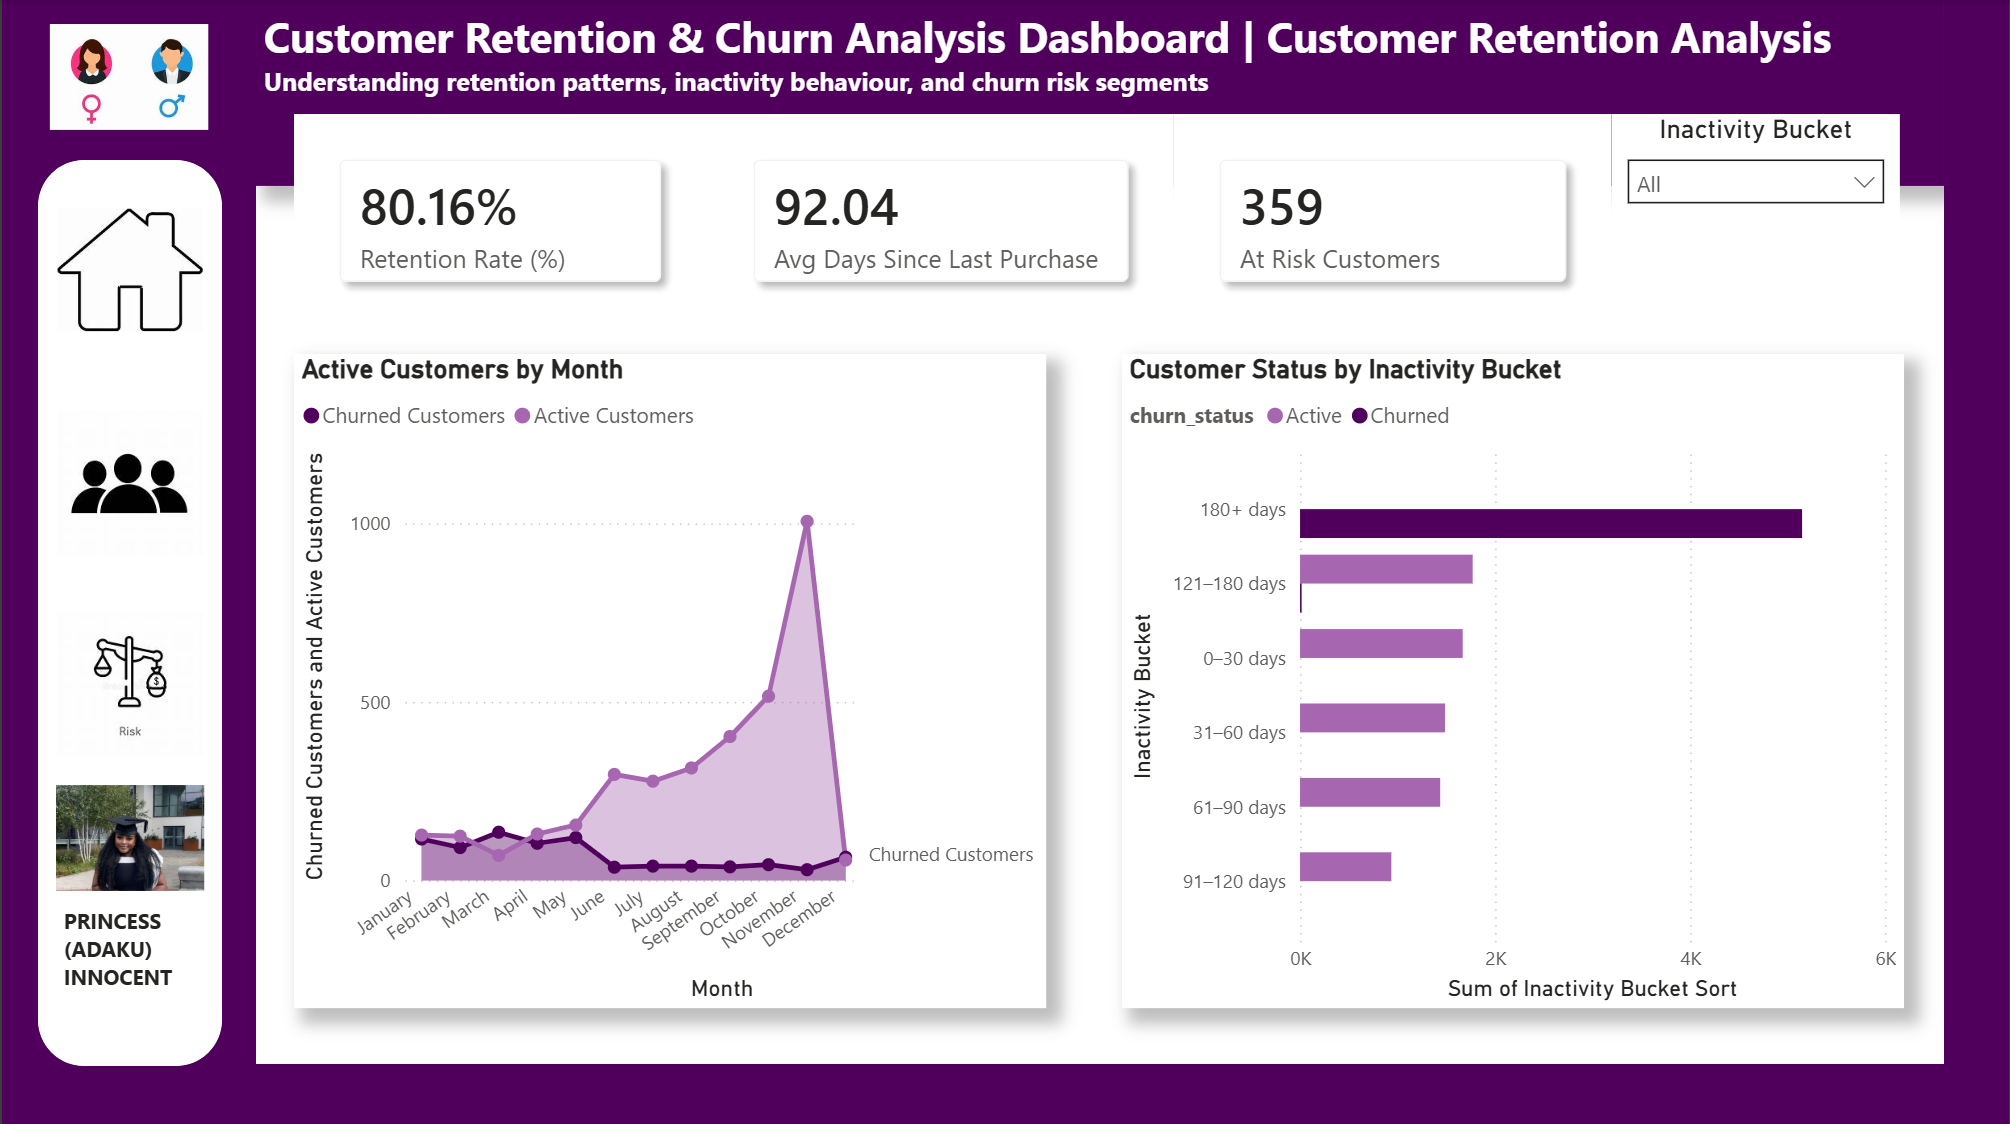

The page's visual inventory and layout, read from the dashboard file:
{"tool":"powerbi","page":{"name":"Customer Retention","canvas":[1280,720],"ordinal":1},"visuals":[{"type":"textbox","box":[161.9,0,1076,118.6],"z":0},{"type":"shape","box":[0,0,161.9,720.3],"z":1000},{"type":"shape","box":[161.9,677.9,1077.3,42.1],"z":2000},{"type":"shape","box":[1237.9,0,42.1,720.3],"z":3000},{"type":"shape","box":[22.9,102,117.3,577.5],"z":4000},{"type":"image","box":[34.4,118.6,94.3,107.1],"z":5000},{"type":"image","box":[34.4,256.3,94.3,103.3],"z":6000},{"type":"image","box":[34.4,376.1,94.3,119.8],"z":7000},{"type":"image","box":[34.4,495.9,94.3,76.5],"z":8000},{"type":"textbox","box":[34.4,572.4,94.3,81.6],"z":9000},{"type":"cardVisual","fields":{"Data":["customer_churn_180days.Retention Rate (%)"]},"box":[186.1,72.7,263.9,136.4],"z":10000},{"type":"cardVisual","fields":{"Data":["customer_churn_180days.Avg Days Since Last Purchase"]},"box":[450,72.7,297.1,136.4],"z":11000},{"type":"cardVisual","fields":{"Data":["customer_churn_180days.At Risk Customers"]},"box":[747.1,72.7,279.2,136.4],"z":12000},{"type":"lineChart","title":"Active Customers by Month","fields":{"Category":["customer_churn_180days.last_purchase_date.Variation.Date Hierarchy.Month"],"Y":["customer_churn_180days.Churned Customers","customer_churn_180days.Active Customers"]},"box":[186.1,225.7,479.4,416.9],"z":13000},{"type":"clusteredBarChart","title":"Customer Status by Inactivity Bucket","fields":{"Series":["customer_churn_180days.churn_status"],"Category":["customer_churn_180days.Inactivity Bucket"],"Y":["Sum(customer_churn_180days.Inactivity Bucket Sort)"]},"box":[713.9,225.7,498.5,416.9],"z":14000},{"type":"slicer","title":"Inactivity Bucket","fields":{"Values":["customer_churn_180days.Inactivity Bucket","customer_churn_180days.Inactivity Bucket Sort"]},"box":[1026.3,72.7,183.6,136.4],"z":15000},{"type":"image","box":[0,15.3,161.9,67.6],"z":15001}]}

Visuals, with their boxes in screenshot pixels (x1, y1, x2, y2), scaled from the page's 1280x720 canvas onto the 2010x1124 screenshot:
textbox: [254, 0, 1944, 185]
shape: [0, 0, 254, 1123]
shape: [254, 1058, 1946, 1123]
shape: [1944, 0, 2009, 1123]
shape: [36, 159, 220, 1061]
image: [54, 185, 202, 352]
image: [54, 400, 202, 561]
image: [54, 587, 202, 774]
image: [54, 774, 202, 894]
textbox: [54, 894, 202, 1021]
cardVisual - customer_churn_180days.Retention Rate (%): [292, 113, 707, 326]
cardVisual - customer_churn_180days.Avg Days Since Last Purchase: [707, 113, 1173, 326]
cardVisual - customer_churn_180days.At Risk Customers: [1173, 113, 1612, 326]
"Active Customers by Month" lineChart: [292, 352, 1045, 1003]
"Customer Status by Inactivity Bucket" clusteredBarChart: [1121, 352, 1904, 1003]
"Inactivity Bucket" slicer: [1612, 113, 1900, 326]
image: [0, 24, 254, 129]
